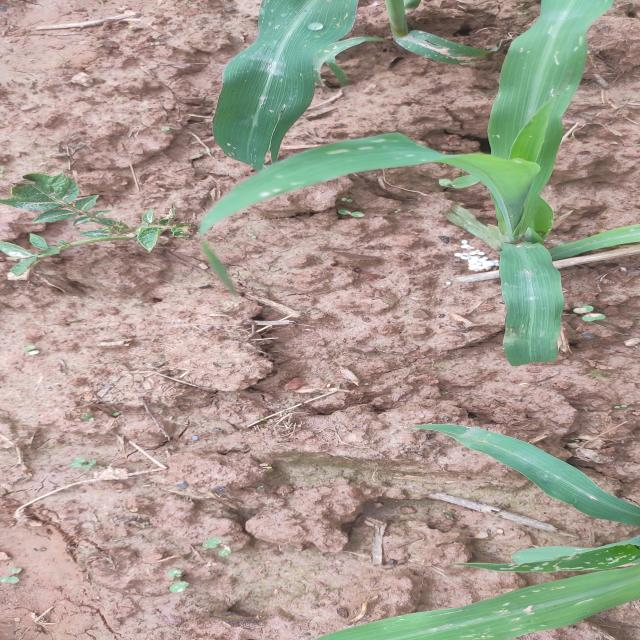maize: (243, 0, 640, 325), (420, 427, 640, 640)
weed: (0, 179, 222, 283)
